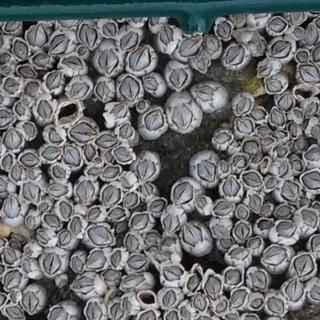Barnacle: (235, 97, 265, 120), (171, 101, 193, 132), (172, 181, 195, 206), (88, 224, 115, 245), (127, 46, 151, 69), (70, 122, 97, 142), (118, 74, 138, 101), (26, 23, 48, 47), (182, 222, 202, 248), (197, 158, 217, 183), (98, 48, 117, 74), (179, 34, 201, 56), (293, 254, 314, 277), (72, 276, 97, 295), (41, 252, 60, 277), (263, 246, 288, 265), (301, 202, 320, 227), (143, 109, 165, 130), (137, 158, 157, 181), (242, 140, 262, 163), (49, 32, 69, 55), (79, 23, 97, 48), (3, 127, 23, 149), (280, 179, 299, 202), (269, 38, 290, 58), (21, 290, 39, 313), (3, 195, 20, 219), (86, 250, 107, 269), (76, 180, 94, 202), (285, 278, 302, 301), (103, 184, 119, 208), (3, 269, 22, 289), (301, 171, 320, 191), (222, 175, 240, 196), (69, 81, 90, 99), (299, 65, 320, 83), (170, 67, 187, 89), (164, 211, 180, 234), (47, 181, 68, 198), (63, 144, 80, 165), (205, 276, 220, 299), (122, 273, 143, 289), (276, 221, 297, 237), (212, 201, 233, 217), (22, 181, 38, 202), (195, 86, 216, 102), (304, 23, 319, 45), (190, 294, 208, 312), (119, 31, 137, 49), (267, 295, 284, 314), (249, 270, 266, 289), (19, 151, 39, 167), (12, 40, 28, 60), (61, 55, 82, 70), (95, 134, 117, 148), (114, 144, 131, 162), (84, 301, 100, 320), (230, 290, 246, 309), (234, 222, 250, 241), (242, 171, 261, 187), (227, 46, 243, 65), (4, 305, 24, 320), (36, 98, 51, 118), (267, 17, 287, 32), (110, 102, 127, 119), (3, 78, 20, 95), (45, 71, 61, 89), (163, 266, 182, 281), (127, 254, 146, 269), (41, 145, 60, 160), (48, 306, 68, 320), (152, 250, 172, 264), (187, 271, 200, 292), (95, 80, 108, 101), (224, 269, 241, 285), (130, 213, 147, 229), (235, 118, 252, 134), (32, 53, 50, 68), (108, 301, 122, 320), (160, 25, 173, 45), (124, 190, 139, 207), (210, 222, 228, 236), (107, 206, 125, 220), (162, 288, 175, 307), (10, 164, 23, 183), (264, 79, 283, 92), (70, 215, 82, 235), (59, 200, 71, 220), (118, 124, 133, 140), (289, 8, 304, 24), (42, 213, 59, 227), (196, 55, 210, 72), (3, 18, 20, 32), (217, 19, 230, 37), (228, 248, 249, 259), (249, 193, 261, 212), (58, 230, 72, 246), (278, 95, 292, 111), (125, 234, 138, 251), (0, 153, 13, 170), (0, 109, 13, 126), (110, 249, 122, 267), (232, 154, 247, 168), (143, 75, 157, 90), (3, 248, 16, 264), (18, 65, 34, 78), (205, 36, 218, 52), (103, 20, 116, 36), (270, 111, 284, 125), (24, 81, 38, 95), (116, 219, 129, 234), (150, 199, 165, 212), (53, 163, 66, 178), (48, 129, 61, 144), (305, 102, 318, 117), (159, 236, 175, 248), (72, 256, 83, 273), (214, 132, 231, 143), (139, 183, 152, 197), (22, 122, 35, 136), (230, 12, 244, 25), (215, 298, 227, 313), (86, 208, 101, 220), (264, 177, 279, 189), (305, 148, 320, 160), (103, 269, 119, 280), (87, 165, 103, 176), (84, 145, 95, 161), (310, 285, 320, 302), (275, 206, 292, 216), (103, 167, 120, 177), (310, 121, 320, 138), (252, 11, 269, 21), (37, 230, 50, 243), (257, 64, 272, 75), (311, 234, 320, 252), (122, 295, 132, 311), (287, 123, 297, 139), (237, 206, 249, 219), (195, 196, 207, 209), (120, 176, 132, 189), (250, 297, 264, 308), (257, 219, 271, 230), (279, 160, 288, 176), (312, 44, 320, 62), (180, 306, 190, 320), (26, 214, 35, 229), (272, 130, 287, 139), (166, 308, 177, 320), (297, 50, 308, 62), (248, 238, 261, 248), (145, 231, 158, 241), (260, 136, 273, 146), (291, 160, 302, 171), (13, 232, 23, 244), (296, 138, 306, 150), (0, 53, 10, 65), (23, 259, 32, 272), (220, 239, 233, 248), (15, 102, 24, 115), (135, 99, 145, 110), (292, 27, 303, 37), (274, 146, 286, 155), (225, 311, 238, 319), (258, 126, 271, 134), (257, 40, 265, 53), (128, 16, 141, 24), (149, 16, 159, 26), (145, 244, 156, 253), (259, 204, 270, 213), (1, 65, 12, 74), (10, 290, 18, 302), (220, 161, 228, 173), (104, 150, 112, 162), (38, 202, 48, 211), (28, 171, 38, 180), (302, 118, 309, 130), (21, 96, 30, 105), (25, 246, 33, 256), (293, 110, 303, 118)
